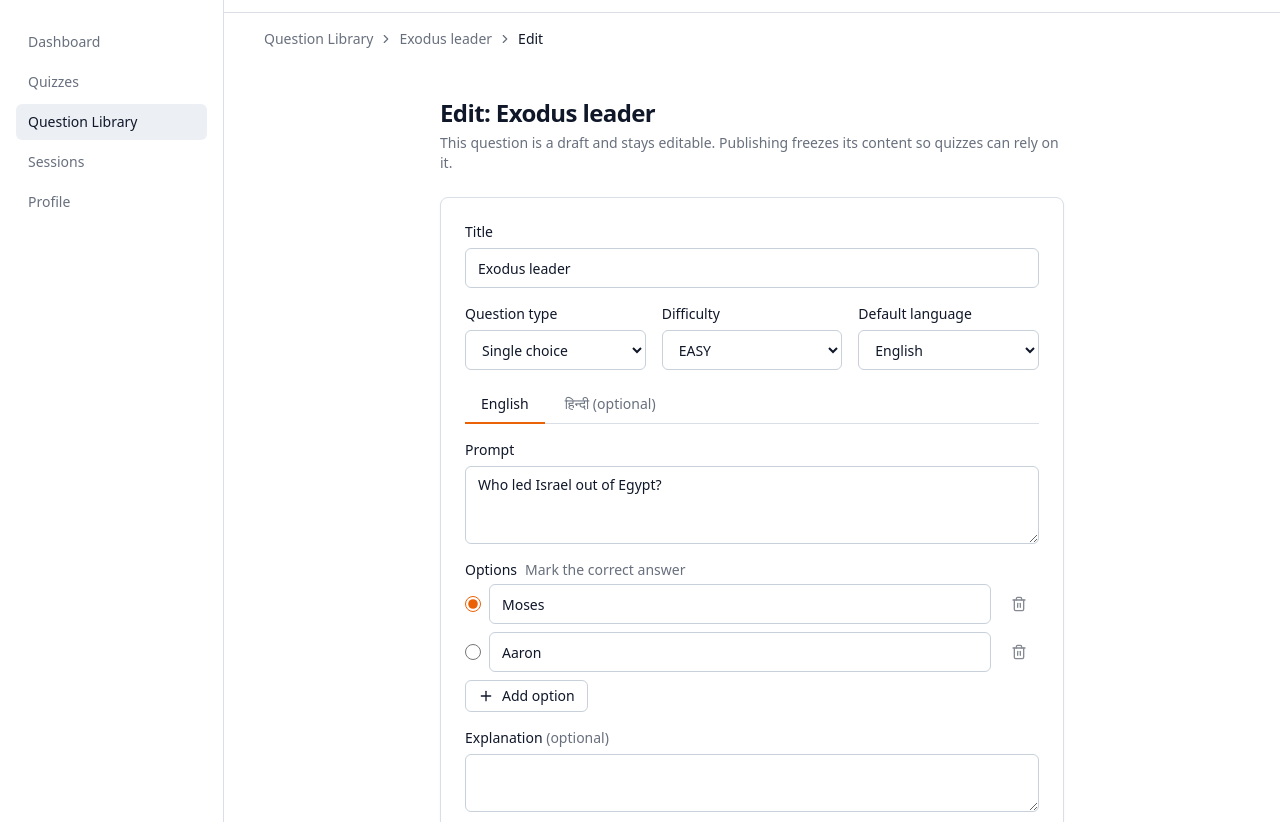
EditQuestionPage › updates a draft as a full PUT, keeping option ids and the read version
Replace the text in the field labelled "Title" with "Who led the Exodus?": (752, 268) [465,248,1039,288]
(page scrolled)
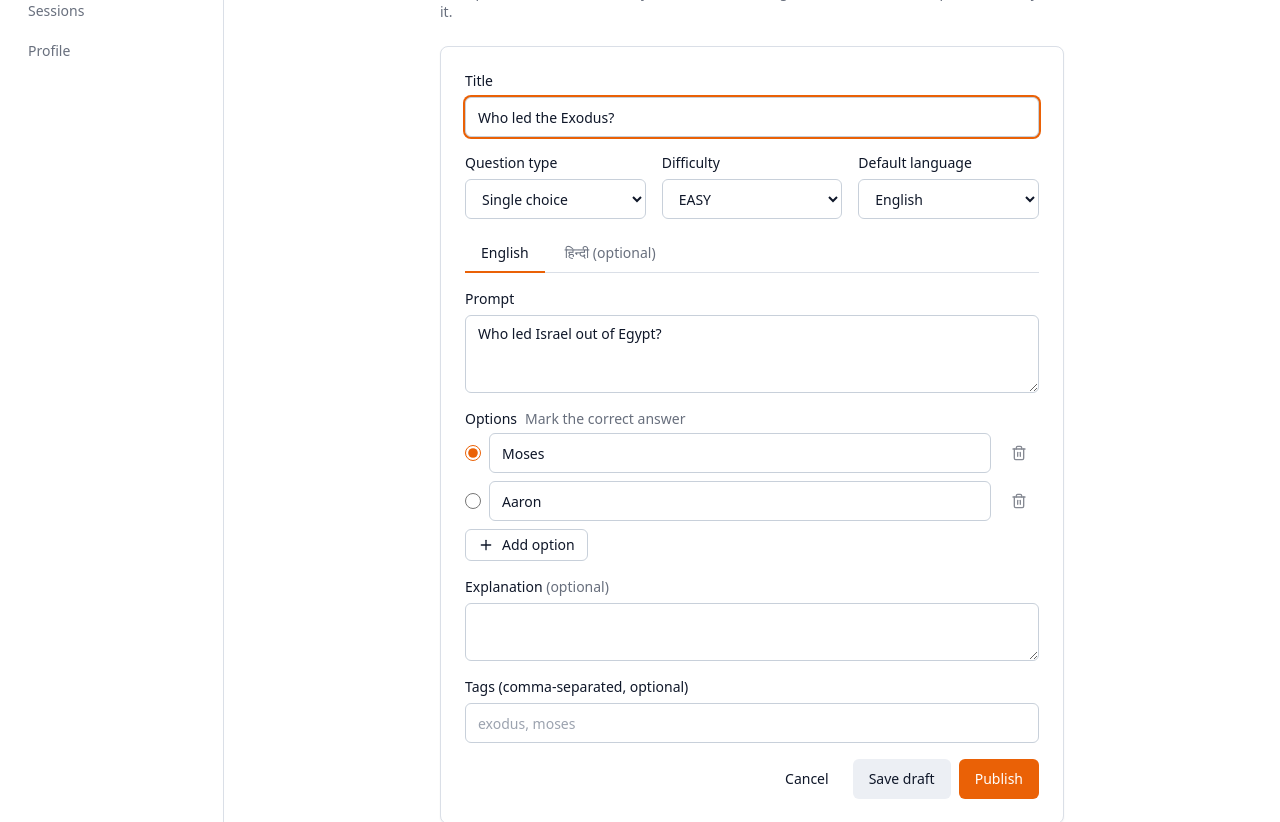
Click the button "Save draft": (902, 779) [853,759,951,799]
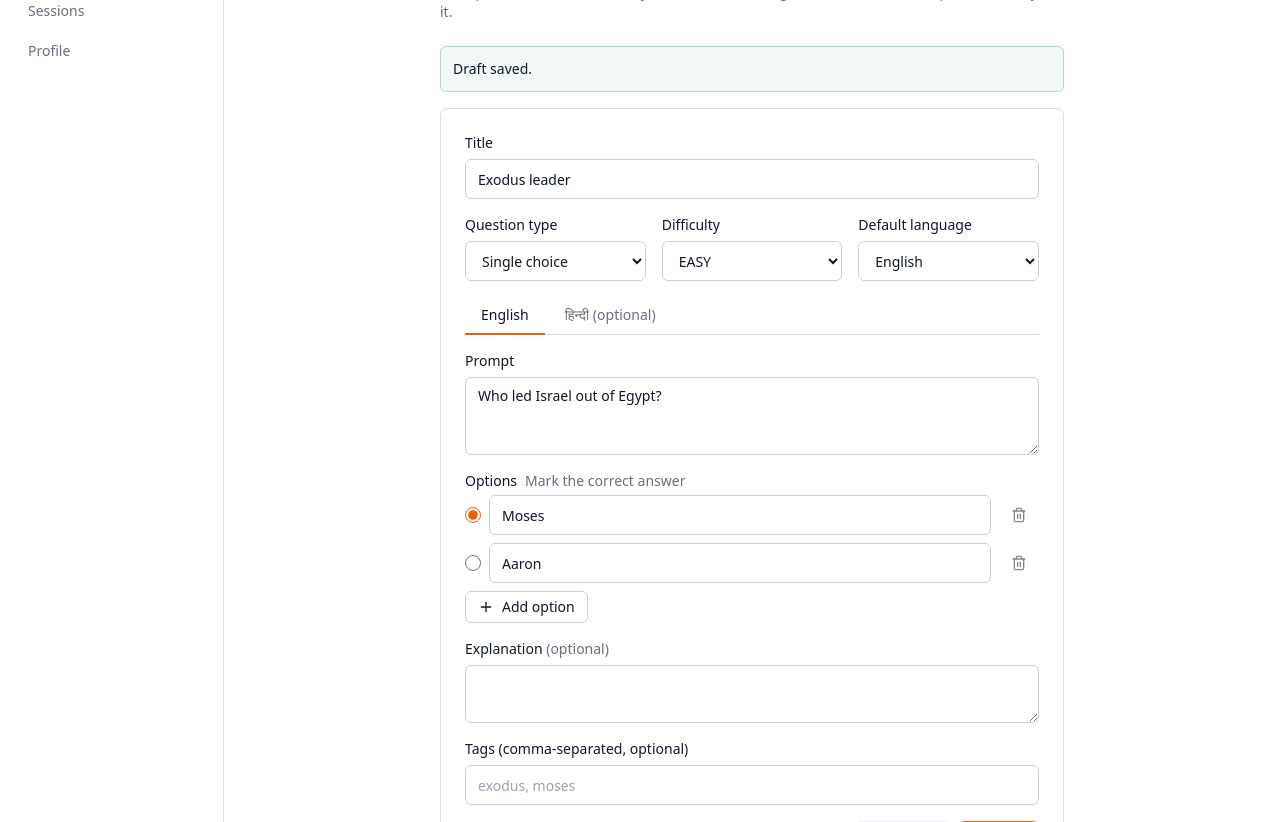
Expected: the text "Draft saved." is shown, [440,46,1064,92]
